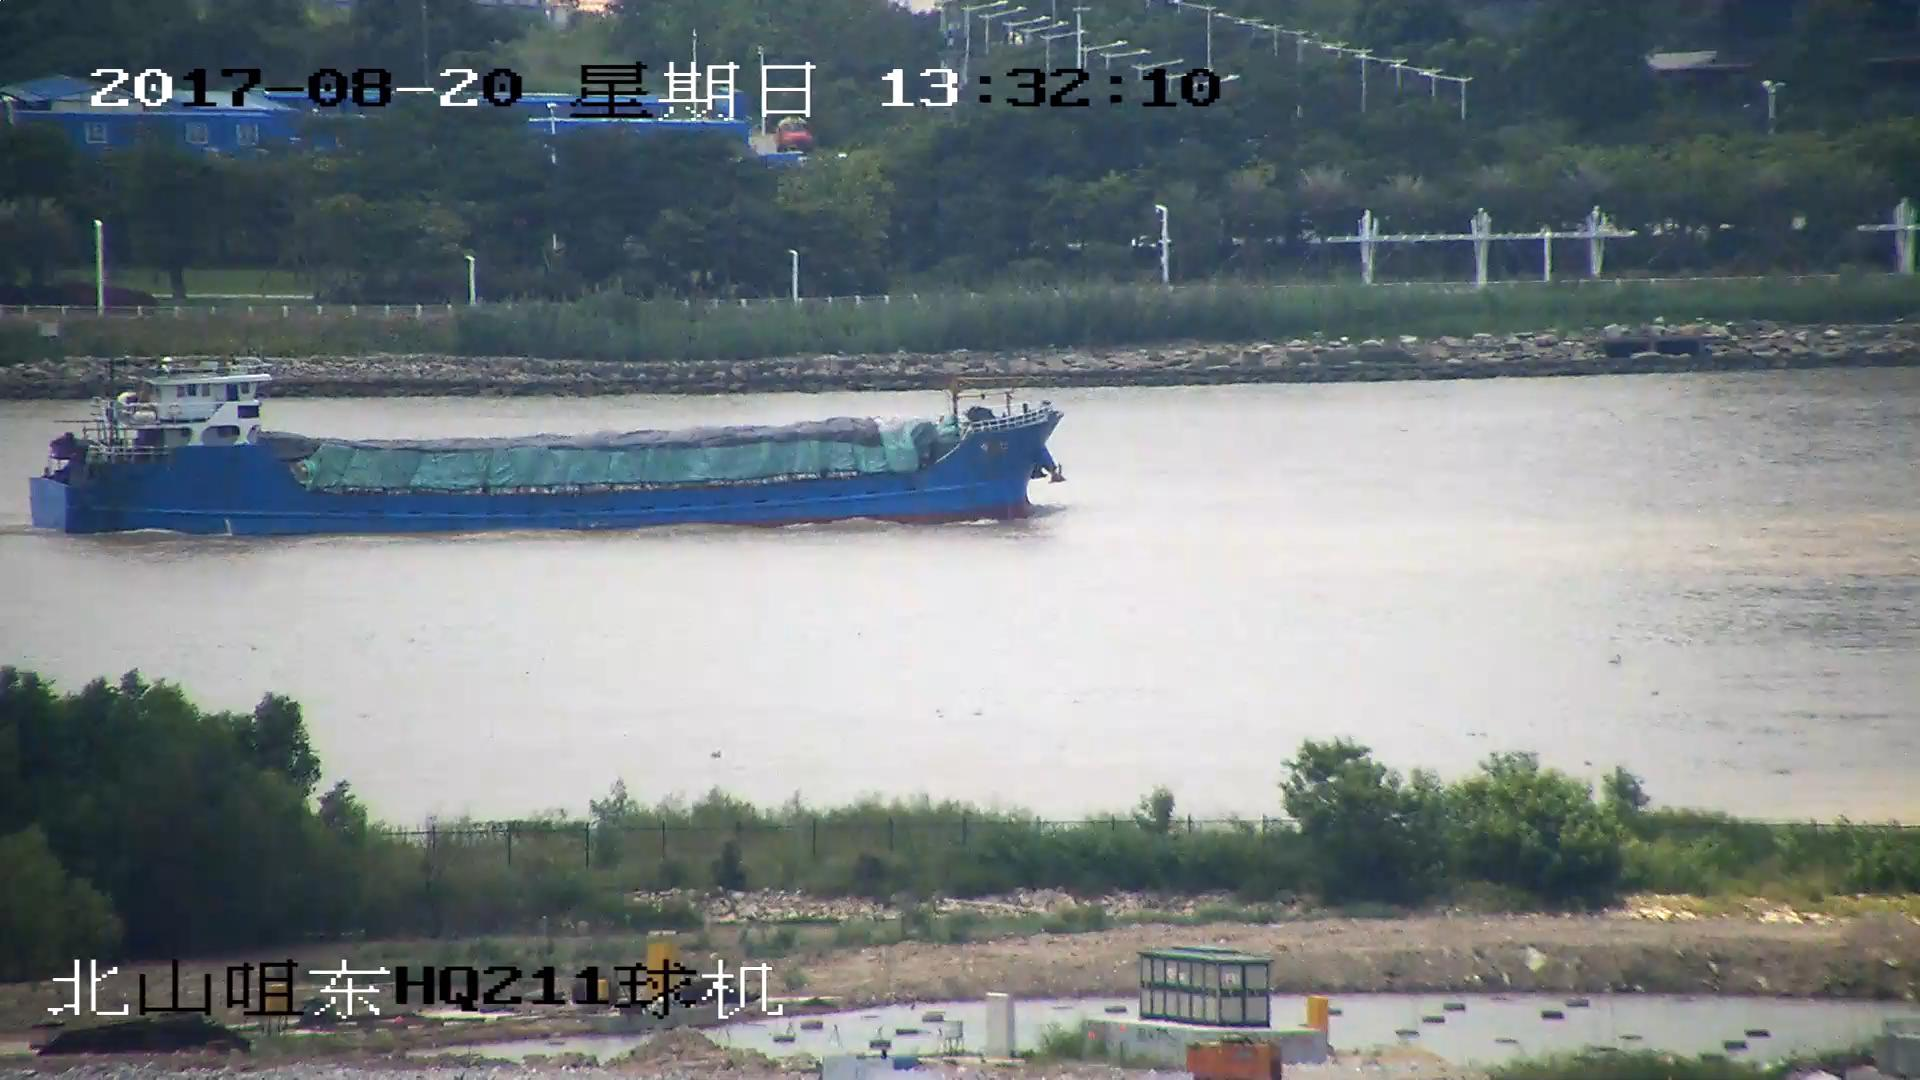Ship: (40, 363, 1068, 535)
